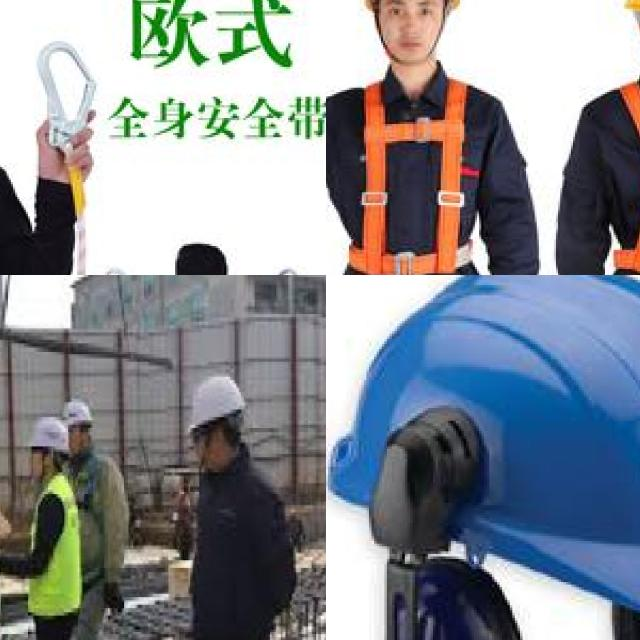Ear-protection: (381, 556, 527, 640)
Harness: (338, 77, 485, 275), (607, 77, 640, 275)
head_helmet: (326, 275, 640, 625)
